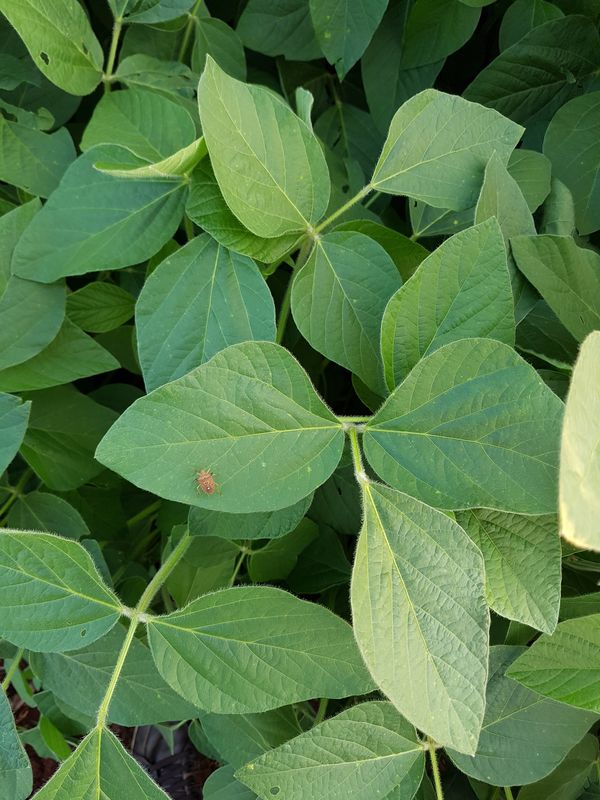Euschistus_heros_adulto: (189, 465, 224, 501)
